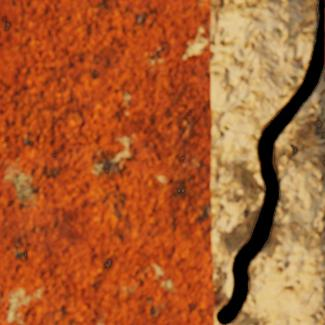brick: (0, 0, 213, 324)
crack: (216, 0, 324, 324)
